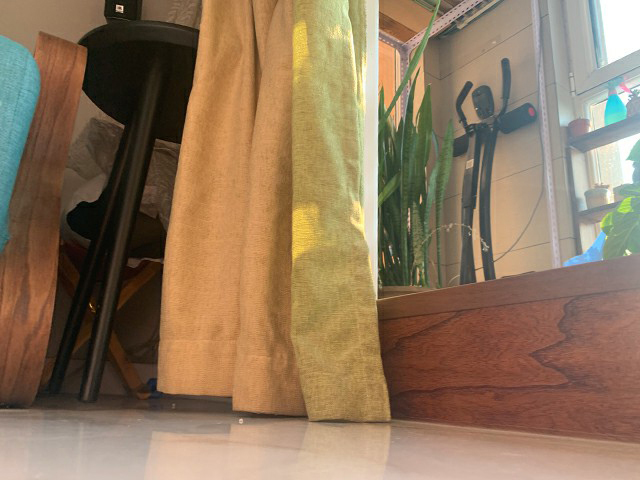curtain: (154, 1, 392, 422)
stool: (47, 18, 197, 404)
